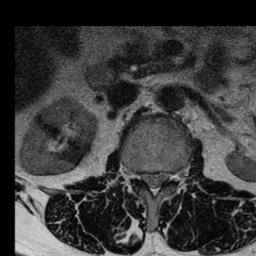CCS_normal: (150, 165, 158, 203)
LFS_stenosis: (168, 162, 177, 190)
LLS_normal: (158, 164, 168, 191)
RFS_stenosis: (131, 161, 141, 188)
RLS_normal: (141, 164, 150, 191)
